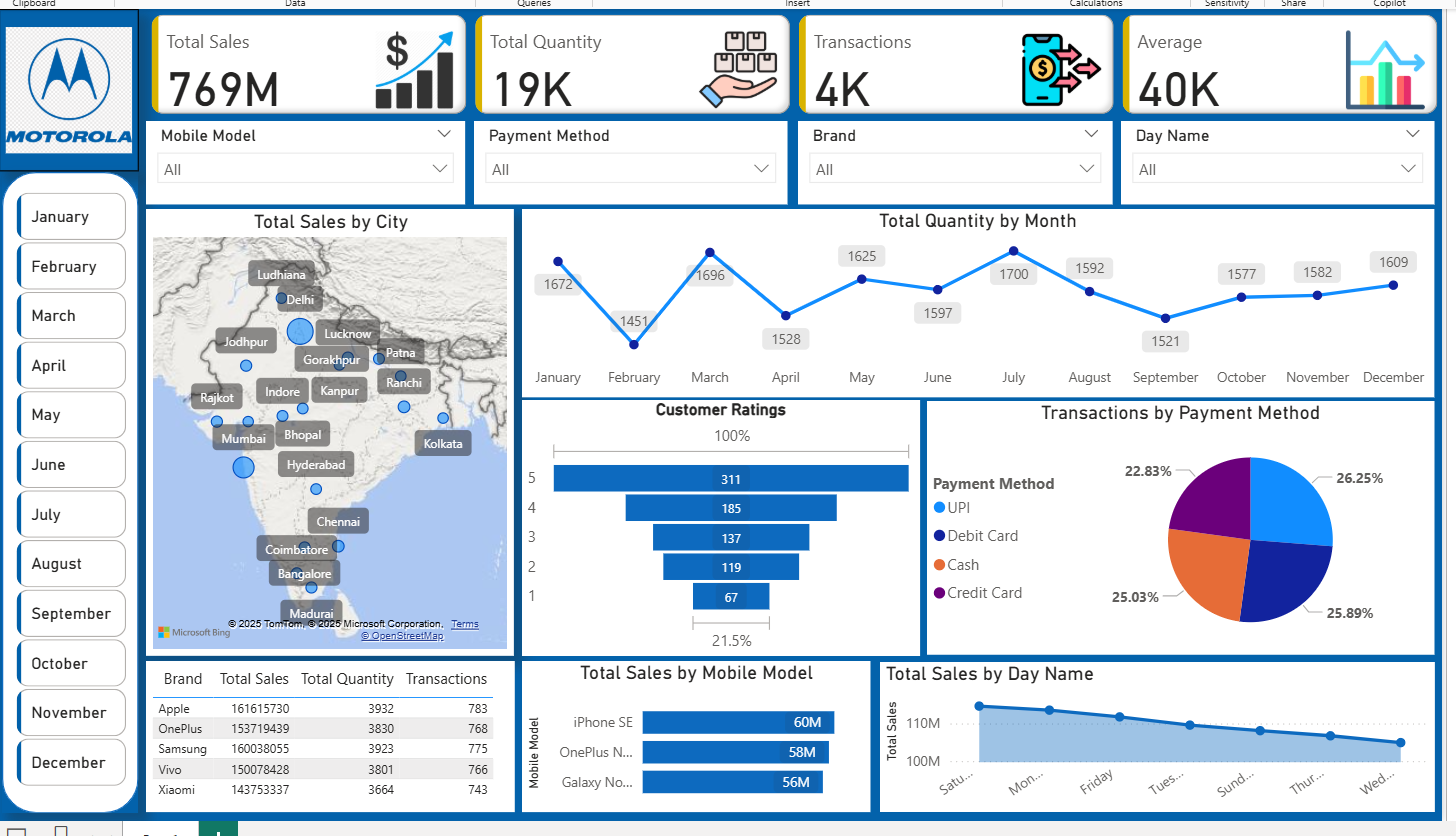

This screenshot's page, from the dashboard's own definition file:
{"tool":"powerbi","page":{"name":"Page 1","canvas":[1280,720],"ordinal":0},"visuals":[{"type":"image","box":[0,0,124.1,143.6],"z":0},{"type":"shape","box":[3,144.1,120.9,568.4],"z":1000},{"type":"advancedSlicerVisual","fields":{"Values":["Sales_data.Date.Variation.Date Hierarchy.Month"]},"box":[10.3,158,107.8,541.8],"z":2000},{"type":"cardVisual","fields":{"Data":["Sales_data.Total Sales","Sales_data.Total Quantity","Sales_data.Transactions","Sales_data.Average"]},"box":[129.9,0,1150.1,98.9],"z":3000},{"type":"map","fields":{"Category":["Sales_data.City"],"Size":["Sales_data.Total Sales"]},"box":[129.9,177.2,326.3,395.7],"z":4000},{"type":"lineChart","fields":{"Y":["Sales_data.Total Quantity"],"Category":["Sales_data.Date.Variation.Date Hierarchy.Month","Sales_data.Date.Variation.Date Hierarchy.Day"]},"box":[463.8,177.4,808.6,167.3],"z":5000},{"type":"clusteredBarChart","fields":{"Category":["Sales_data.Mobile Model"],"Y":["Sales_data.Total Sales"]},"box":[463.7,578.1,309.5,133.9],"z":6000},{"type":"pieChart","fields":{"Category":["Sales_data.Payment Method"],"Y":["Sales_data.Transactions"]},"box":[822.9,347.6,449.6,225.2],"z":7000},{"type":"funnel","title":"Customer Ratings","fields":{"Category":["Sales_data.Customer Ratings"],"Y":["CountNonNull(Sales_data.Customer Ratings)"]},"box":[463.6,346.9,352.8,227.4],"z":8000},{"type":"areaChart","fields":{"Category":["Sales_data.Day Name"],"Y":["Sales_data.Total Sales"]},"box":[781,578.7,491.6,132.9],"z":9000},{"type":"tableEx","fields":{"Values":["Sales_data.Brand","Sales_data.Total Sales","Sales_data.Total Quantity","Sales_data.Transactions"]},"box":[130.6,578.4,326.5,134.3],"z":10000},{"type":"slicer","fields":{"Values":["Sales_data.Mobile Model"]},"box":[129.9,98.9,283.5,73.8],"z":11000},{"type":"slicer","fields":{"Values":["Sales_data.Payment Method"]},"box":[420.8,98.9,277.6,73.8],"z":12000},{"type":"slicer","fields":{"Values":["Sales_data.Brand"]},"box":[708.7,98.9,279,73.8],"z":13000},{"type":"slicer","fields":{"Values":["Sales_data.Day Name"]},"box":[995.1,98.9,277.6,73.8],"z":14000}]}

Visuals, with their boxes in screenshot pixels (x1, y1, x2, y2):
image: 0 8 139 169
shape: 3 169 139 807
advancedSlicerVisual - Sales_data.Date.Variation.Date Hierarchy.Month: 12 185 132 793
cardVisual - Sales_data.Total Sales x Sales_data.Total Quantity: 146 8 1436 119
map - Sales_data.City x Sales_data.Total Sales: 146 206 512 650
lineChart - Sales_data.Total Quantity x Sales_data.Date.Variation.Date Hierarchy.Month: 520 207 1427 394
clusteredBarChart - Sales_data.Mobile Model x Sales_data.Total Sales: 520 656 867 806
pieChart - Sales_data.Payment Method x Sales_data.Transactions: 923 398 1427 650
"Customer Ratings" funnel: 520 397 916 652
areaChart - Sales_data.Day Name x Sales_data.Total Sales: 876 657 1428 806
tableEx - Sales_data.Brand x Sales_data.Total Sales: 147 656 513 807
slicer - Sales_data.Mobile Model: 146 119 464 201
slicer - Sales_data.Payment Method: 472 119 783 201
slicer - Sales_data.Brand: 795 119 1108 201
slicer - Sales_data.Day Name: 1116 119 1428 201
